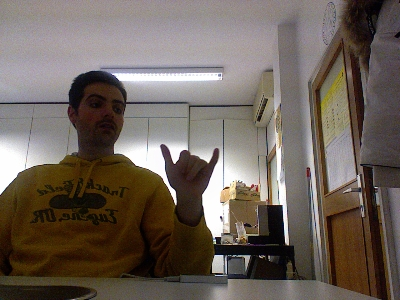六六六: (158, 143, 219, 195)
